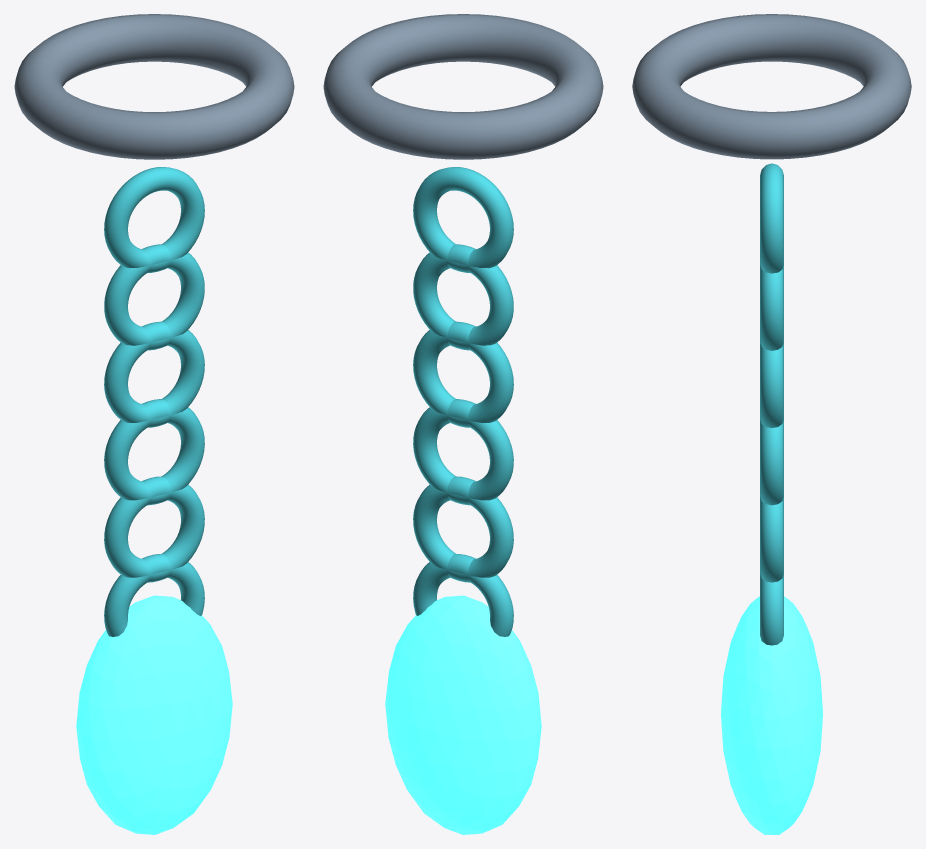
The model's file is earring_v5.glb.
The picture shows the model from 3 angles, left to right: view 1: azimuth 30°, elevation 25°; view 2: azimuth 150°, elevation 25°; view 3: azimuth 270°, elevation 25°; orthographic projection.
Parts seen in each view (by area): view 1: DROP_STONE_EMISSIVE, DROP_HOOP_PRIMARY, DROP_LINK_ACCENT, DROP_LINK_ACCENT.003, DROP_LINK_ACCENT.004, DROP_LINK_ACCENT.002, DROP_LINK_ACCENT.001, DROP_LINK_ACCENT.005; view 2: DROP_STONE_EMISSIVE, DROP_HOOP_PRIMARY, DROP_LINK_ACCENT, DROP_LINK_ACCENT.003, DROP_LINK_ACCENT.004, DROP_LINK_ACCENT.002, DROP_LINK_ACCENT.001, DROP_LINK_ACCENT.005; view 3: DROP_HOOP_PRIMARY, DROP_STONE_EMISSIVE, DROP_LINK_ACCENT, DROP_LINK_ACCENT.004, DROP_LINK_ACCENT.001, DROP_LINK_ACCENT.002, DROP_LINK_ACCENT.003, DROP_LINK_ACCENT.005.
Boxes of the visible parts, x1,y1,x2,y2 form: DROP_STONE_EMISSIVE: (76,595,232,834); DROP_HOOP_PRIMARY: (14,14,294,159); DROP_LINK_ACCENT: (104,167,204,272); DROP_LINK_ACCENT.003: (104,399,204,505); DROP_LINK_ACCENT.004: (104,476,204,582); DROP_LINK_ACCENT.002: (104,321,204,427); DROP_LINK_ACCENT.001: (104,244,204,350); DROP_LINK_ACCENT.005: (104,554,204,636); DROP_STONE_EMISSIVE: (385,595,541,834); DROP_HOOP_PRIMARY: (323,14,603,159); DROP_LINK_ACCENT: (413,167,513,272); DROP_LINK_ACCENT.003: (413,399,513,505); DROP_LINK_ACCENT.004: (413,476,513,582); DROP_LINK_ACCENT.002: (413,321,513,427); DROP_LINK_ACCENT.001: (413,244,513,350); DROP_LINK_ACCENT.005: (413,554,513,636); DROP_HOOP_PRIMARY: (632,14,911,159); DROP_STONE_EMISSIVE: (721,596,822,834); DROP_LINK_ACCENT: (760,163,783,273); DROP_LINK_ACCENT.004: (760,496,783,582); DROP_LINK_ACCENT.001: (760,264,783,350); DROP_LINK_ACCENT.002: (760,341,783,427); DROP_LINK_ACCENT.003: (760,419,783,505); DROP_LINK_ACCENT.005: (760,573,783,645).
Bounding box in the file's own units: 0.82 × 2.48 × 0.82.
